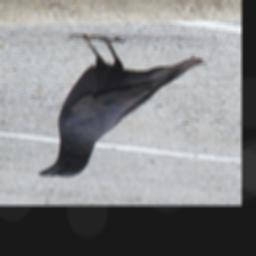Crow: (37, 34, 204, 178)
